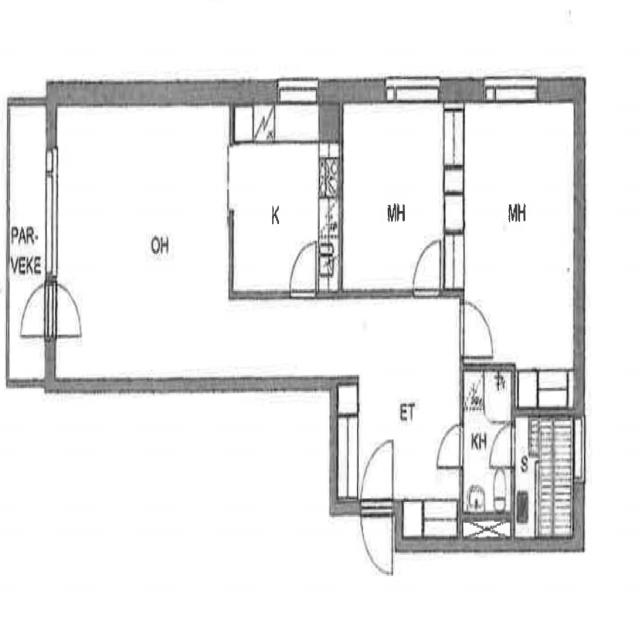door: (359, 498, 391, 574), (359, 439, 391, 514), (17, 283, 56, 339), (47, 283, 86, 339), (412, 234, 442, 300), (459, 306, 492, 358), (290, 242, 316, 300), (435, 424, 464, 472), (488, 424, 516, 469)
